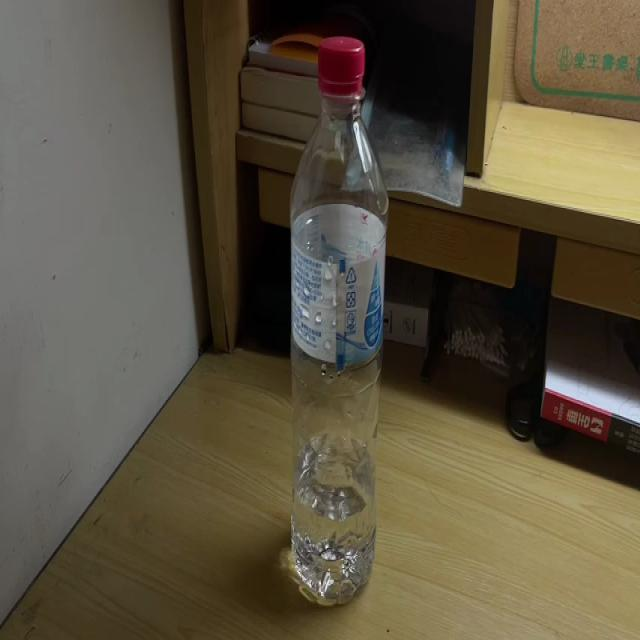Water: (292, 33, 386, 605)
